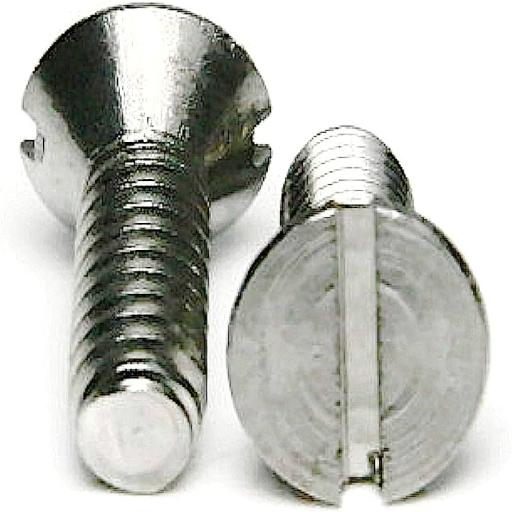Slotted: (226, 204, 490, 503)
